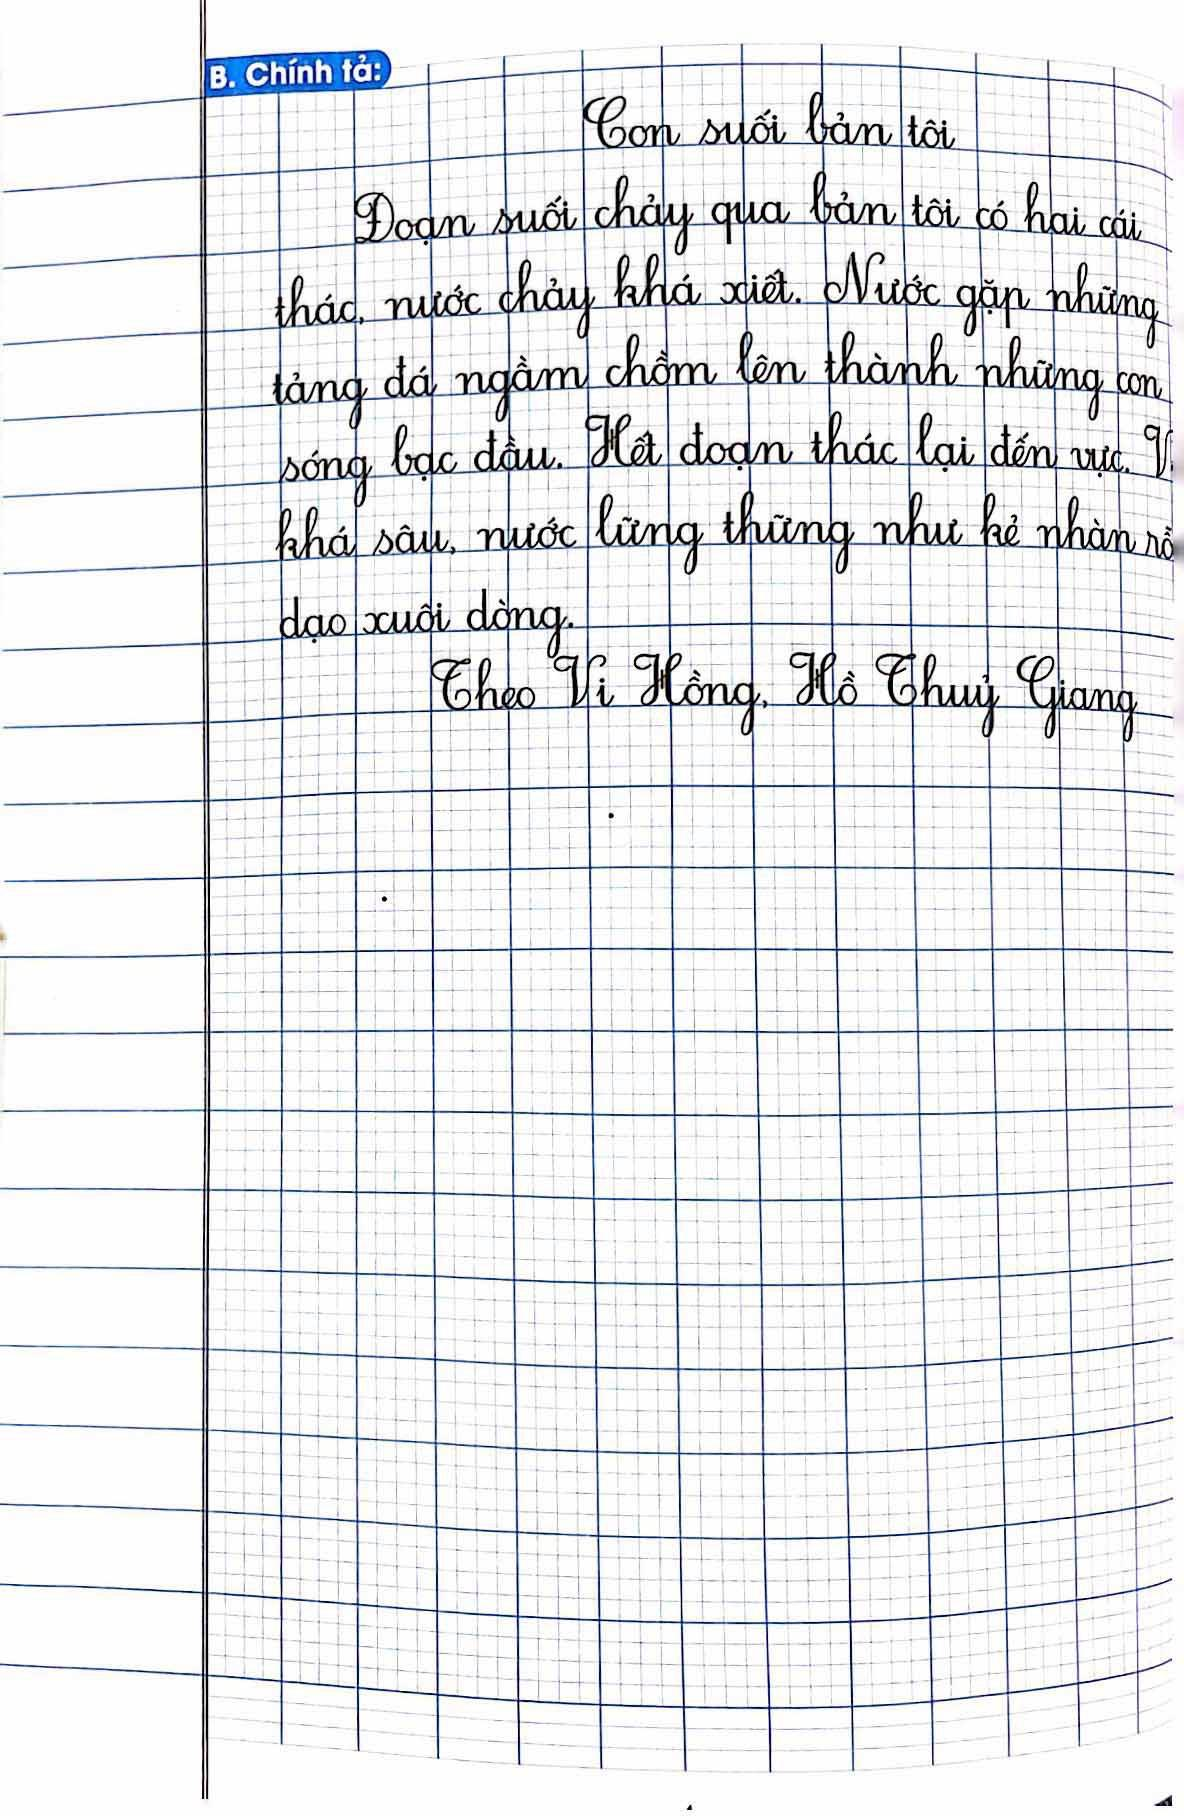text: (261, 326, 1177, 433), (273, 404, 1184, 511), (269, 246, 1169, 348), (269, 484, 1184, 581), (426, 649, 1146, 748), (345, 172, 1150, 258), (573, 86, 962, 158), (273, 582, 582, 660), (208, 50, 388, 90)
